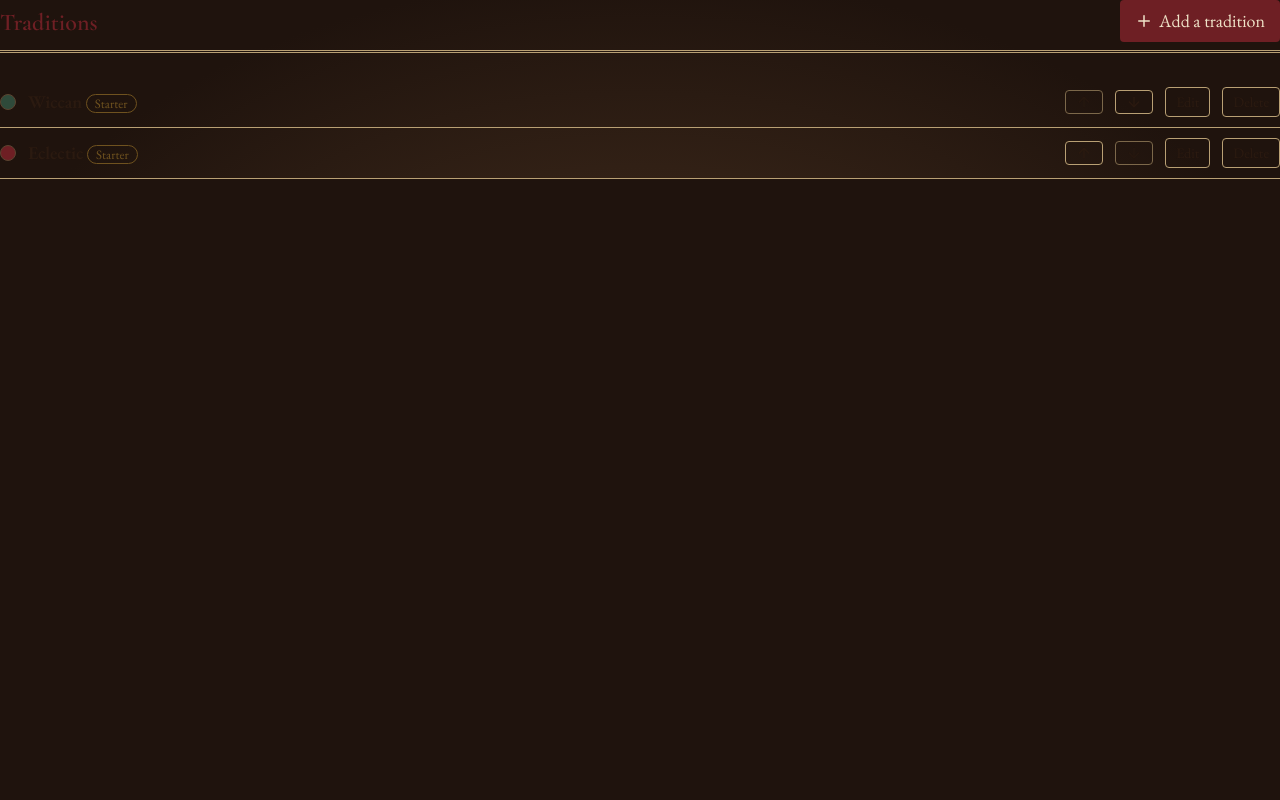
Test case: Traditions › edits a tradition and sends its version
Click the button "Edit" in the row of "Wiccan" at (1188, 102), box [1165,87,1210,117]
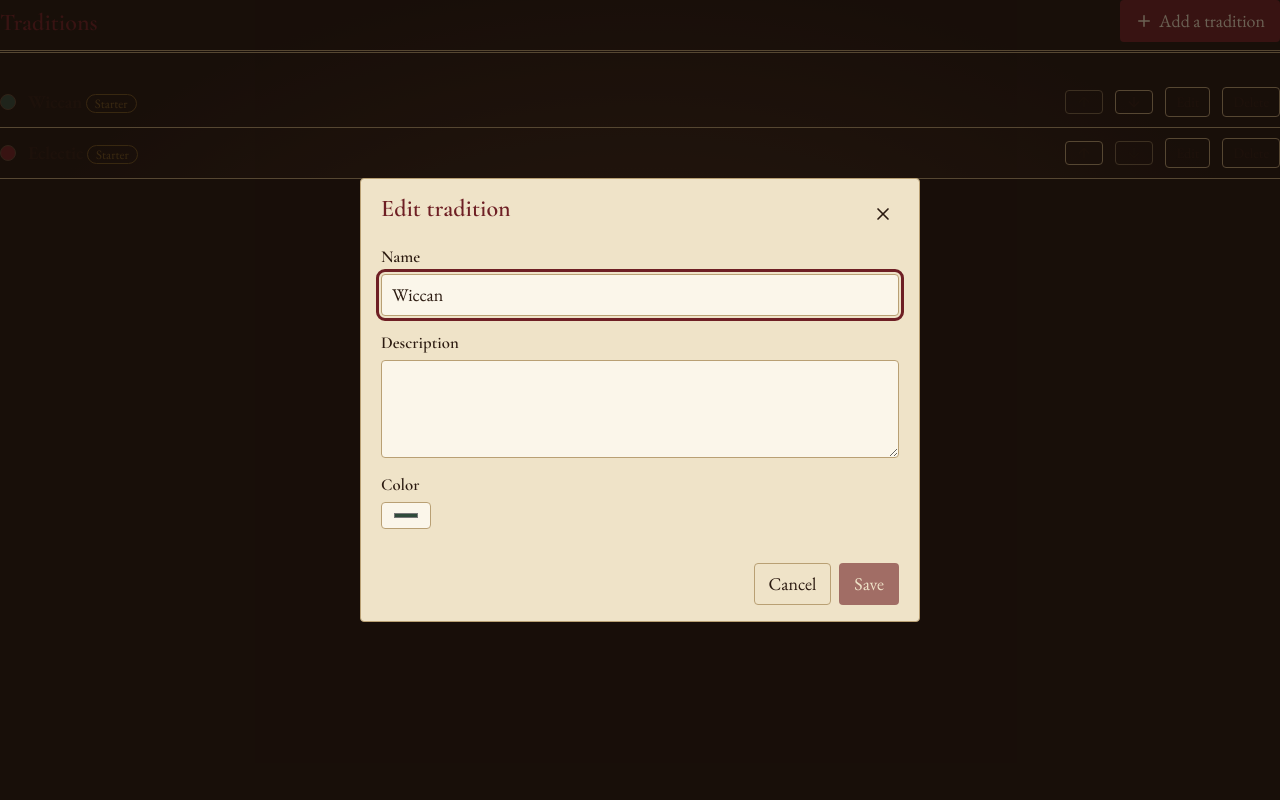
Type "God and Goddess" into the text box labelled "Description" at (640, 409), box [381,360,899,458]
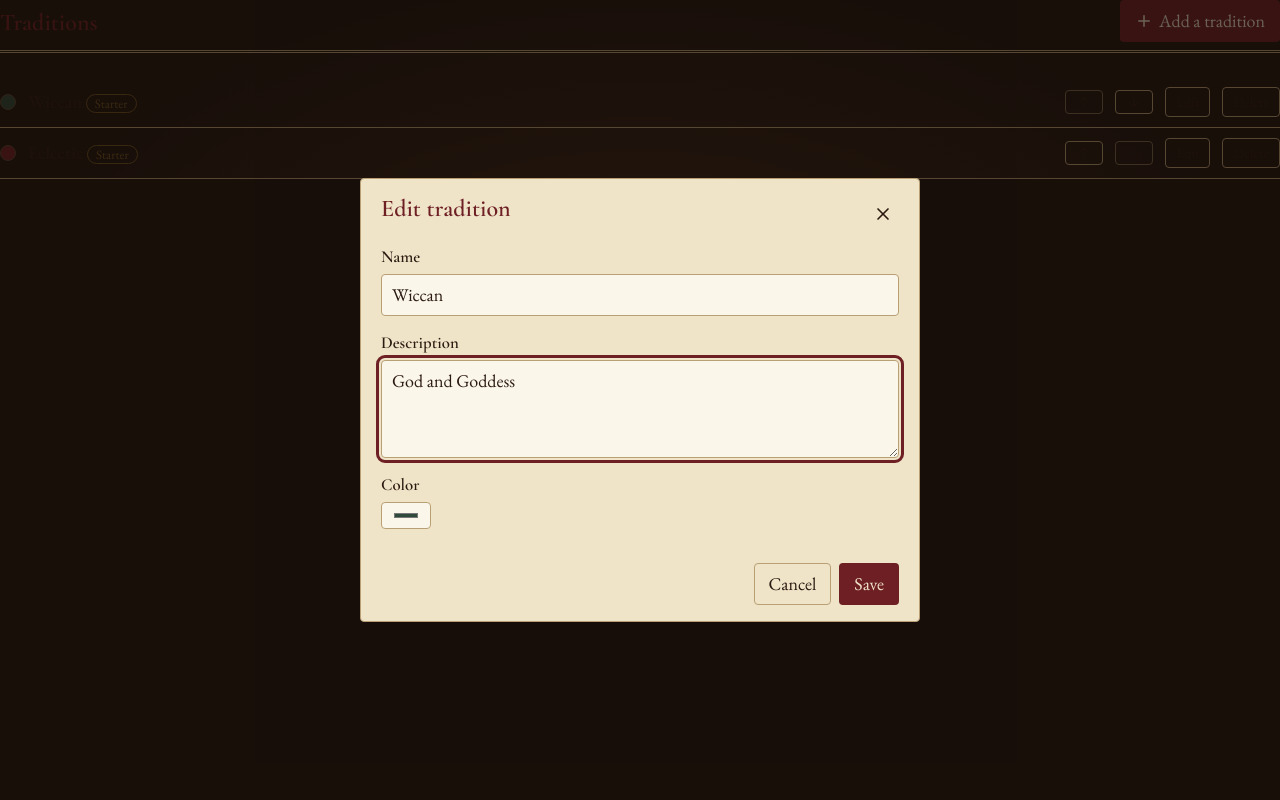
Click the button "Save" at (869, 584), box [839,563,899,605]
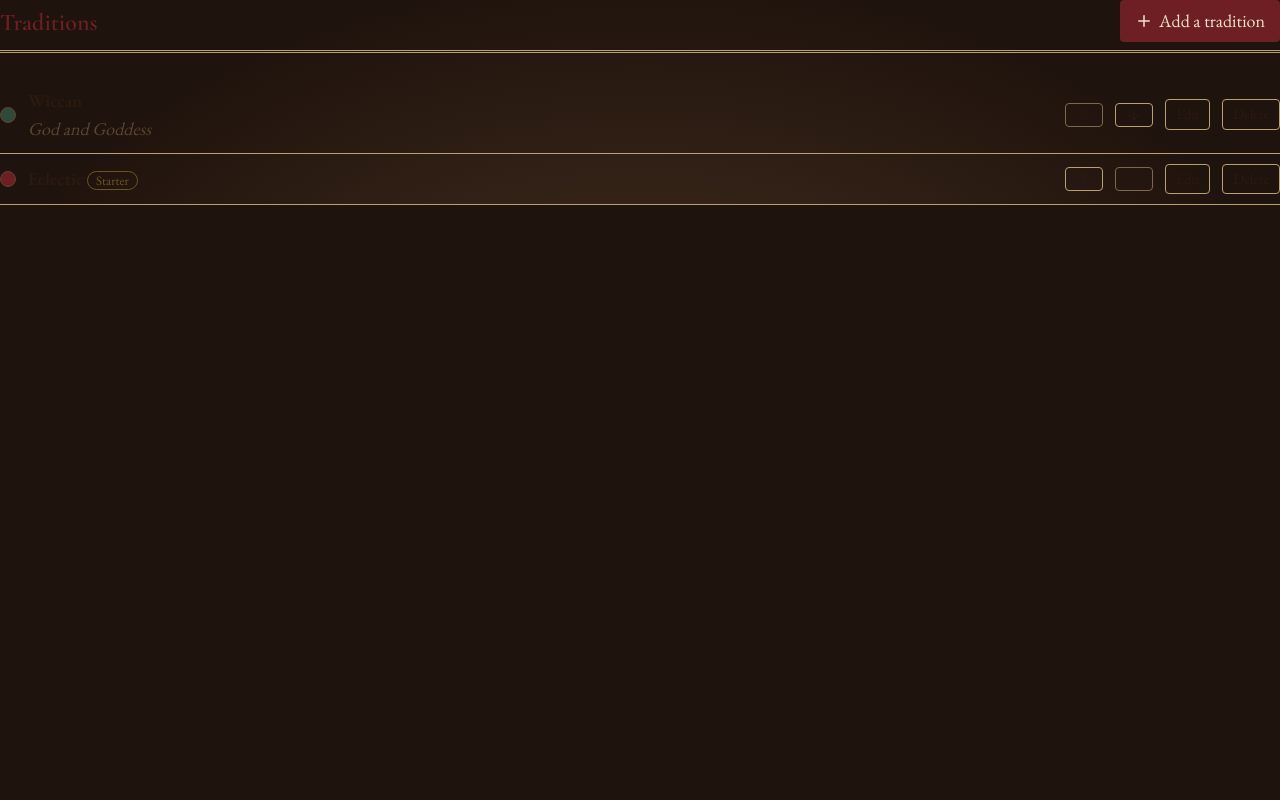
Check: the text "God and Goddess" is shown, box [28,117,151,140]
